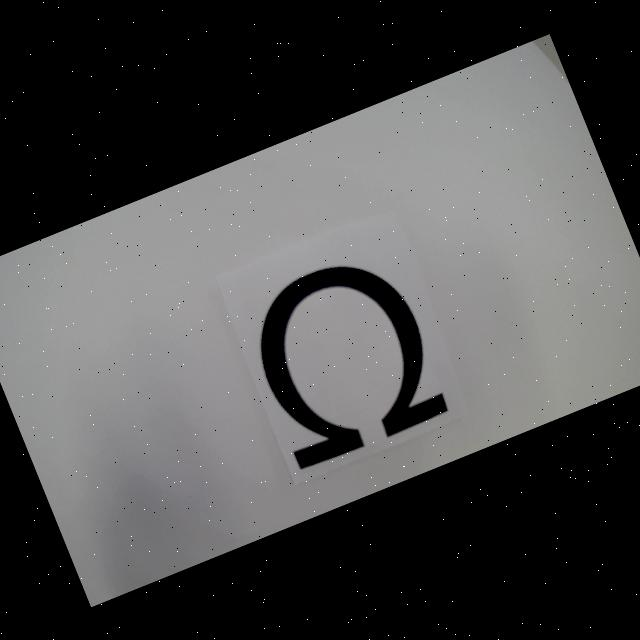OMEGA: (234, 243, 452, 472)
